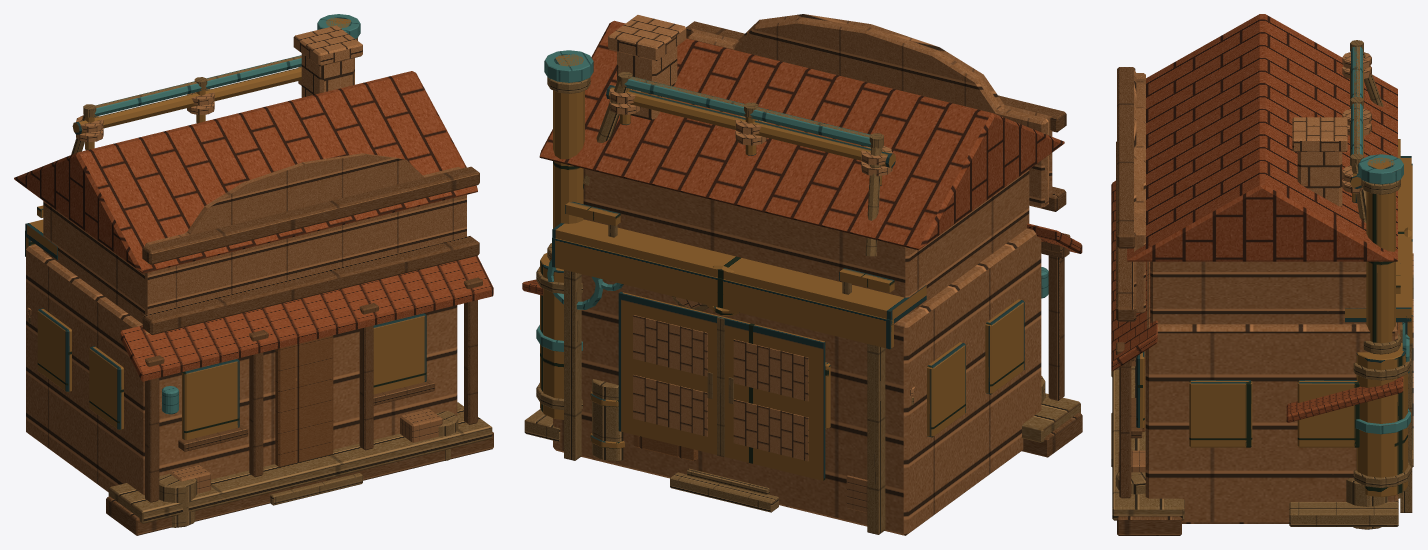
Rendered from general-store.e4.glb.
The picture shows the model from 3 angles, left to right: view 1: azimuth 30°, elevation 25°; view 2: azimuth 150°, elevation 25°; view 3: azimuth 270°, elevation 25°; orthographic projection. The views are drawn at different scales.
Parts seen in each view (by area): view 1: GeneralStoreE4; view 2: GeneralStoreE4; view 3: GeneralStoreE4.
Boxes of the visible parts, left/top/right/bottom form: GeneralStoreE4: left=14, top=14, right=493, bottom=535; GeneralStoreE4: left=522, top=14, right=1082, bottom=535; GeneralStoreE4: left=1111, top=14, right=1413, bottom=535.
Bounding box in the file's own units: 4.7 × 4.44 × 3.26.
1 material, 1 textured.
